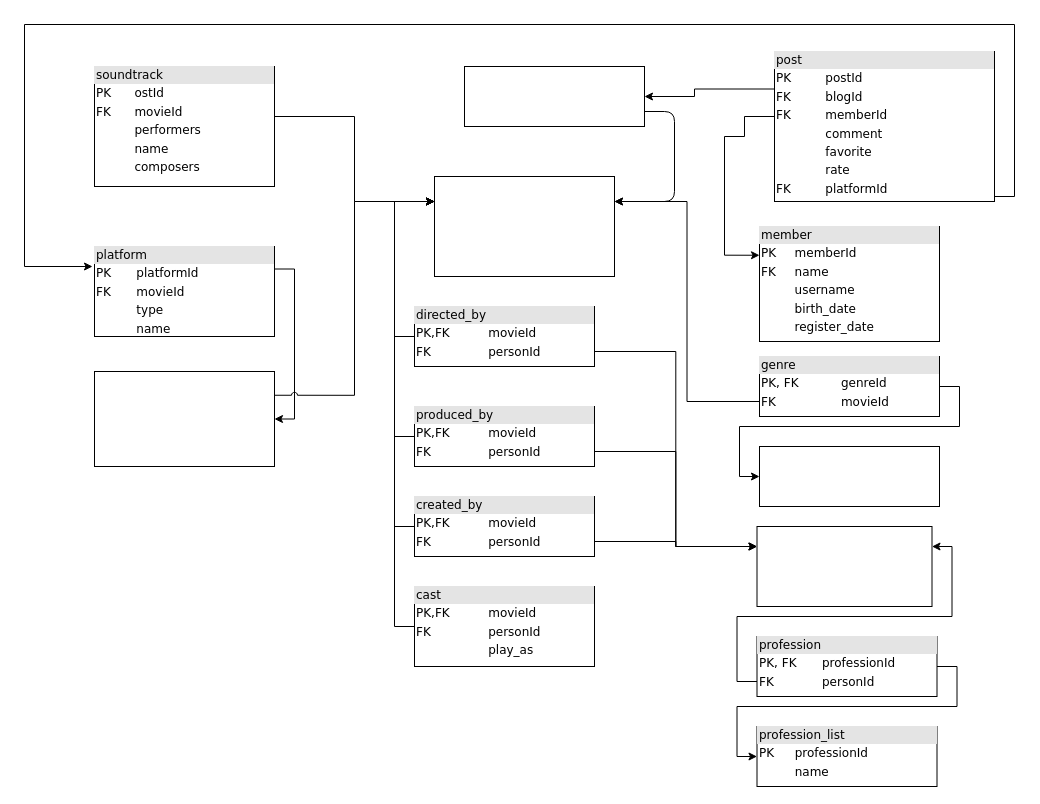
The diagram is 1040 pixels wide and 804 high, and some of its shapes have lost their labels. Here are the shapes that lost their labels. From the top down, the centre of each, then its label:
At [554,96]: "blog PK blogId FK movieId".
At [524,226]: "movie PK movieId title year country".
At [184,418]: "available_on PK, FK movieId FK platformId accessibility price".
At [849,476]: "genre_list PK genreId name".
At [844,566]: "person PK personId name birth_date".
